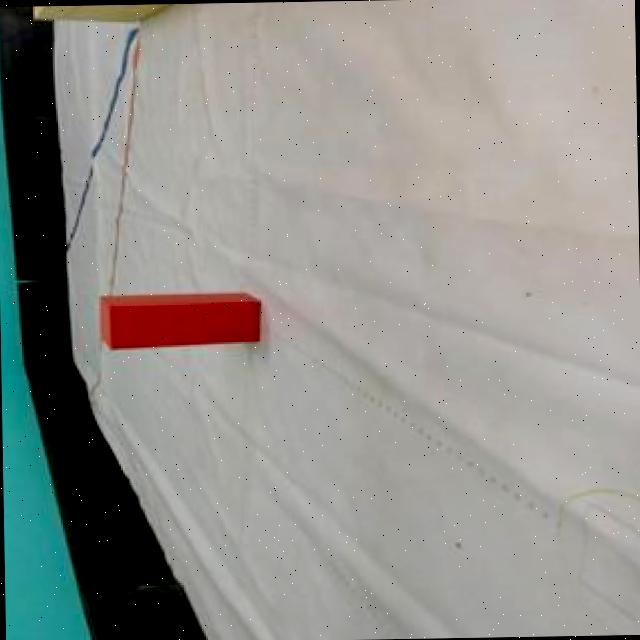redbox: (97, 293, 260, 348)
